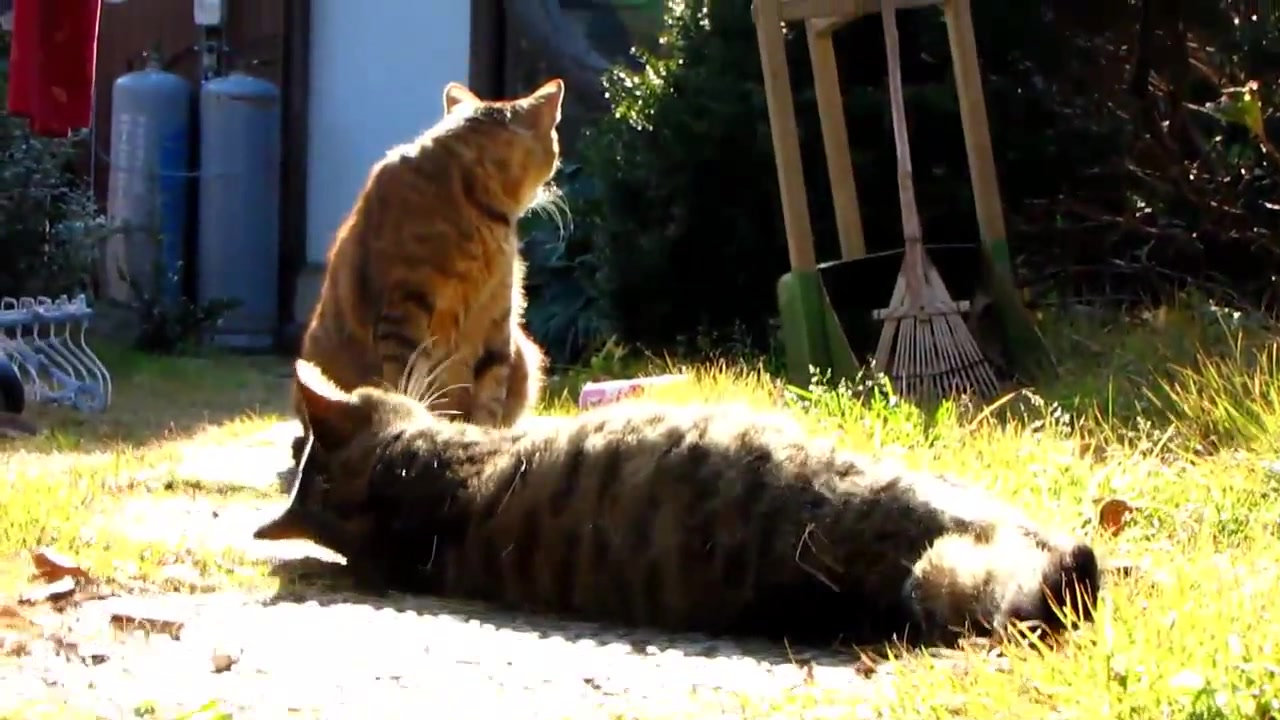cat: (255, 358, 1101, 656), (292, 76, 576, 429)
